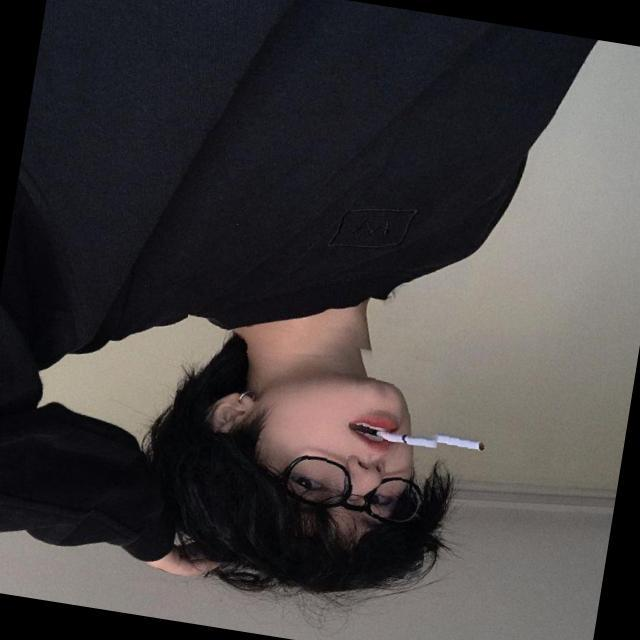cigarette: (358, 391, 528, 467)
